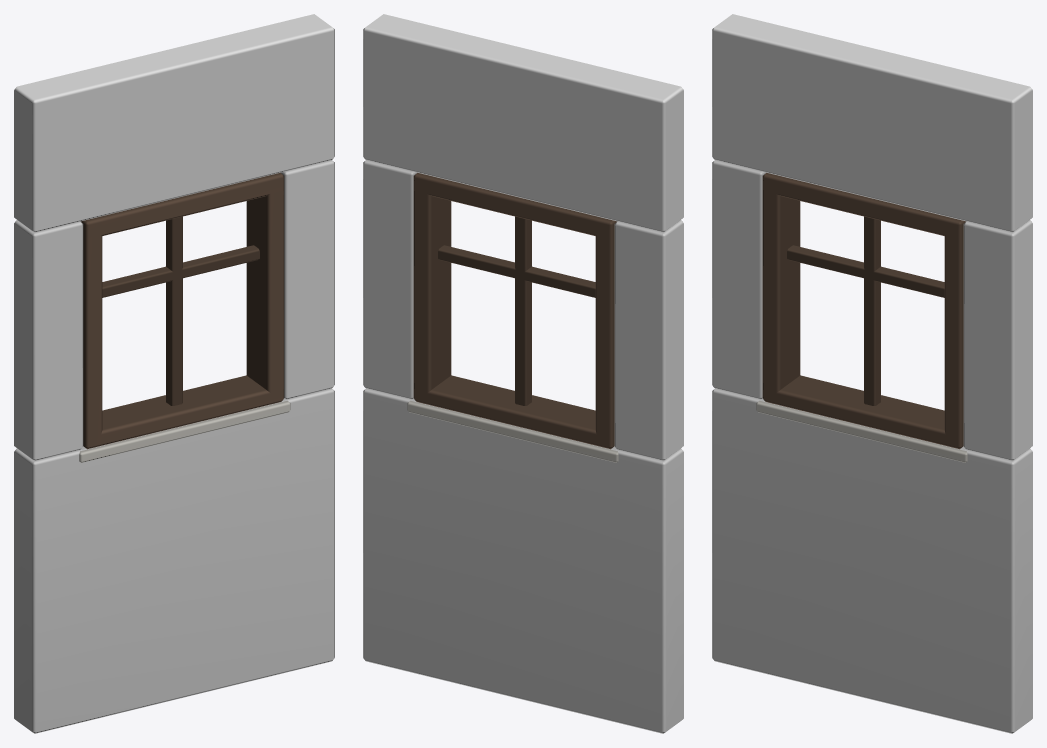
The model's file is plaster-window.glb.
The picture shows the model from 3 angles, left to right: view 1: azimuth 30°, elevation 25°; view 2: azimuth 150°, elevation 25°; view 3: azimuth 330°, elevation 25°; orthographic projection.
Parts seen in each view (by area): view 1: body; view 2: body; view 3: body.
Part boxes in pixels (x1,y1,x2,y2): body: (14,14,334,733); body: (363,14,683,733); body: (712,14,1032,733).
Size of what is drawn, in the model's own units: 1 by 2 by 0.134.
